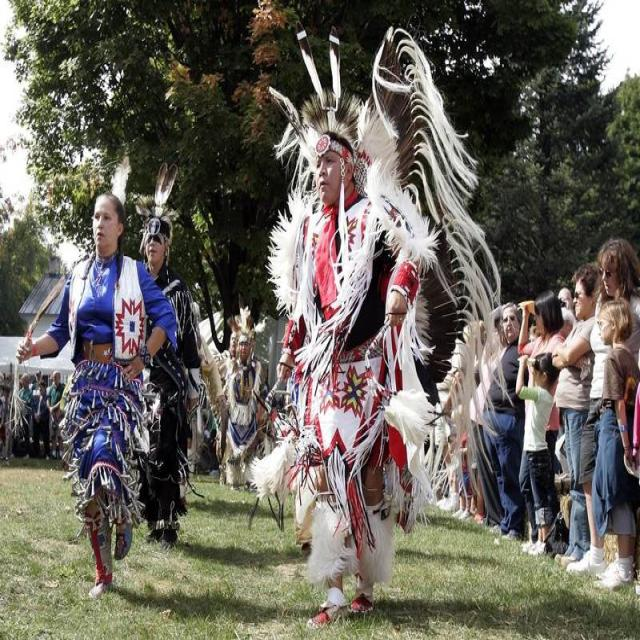body: (272, 91, 432, 634), (15, 190, 178, 600), (359, 514, 628, 639), (565, 236, 640, 580), (112, 495, 309, 614), (136, 212, 203, 550), (550, 260, 604, 568), (590, 295, 639, 595), (516, 289, 566, 554), (480, 301, 530, 543), (513, 348, 562, 558), (434, 314, 486, 506), (218, 304, 268, 490), (468, 303, 505, 528), (183, 319, 230, 496), (208, 313, 242, 476), (0, 367, 48, 467), (526, 285, 576, 339), (629, 348, 639, 598), (29, 378, 52, 461), (46, 368, 66, 456)
